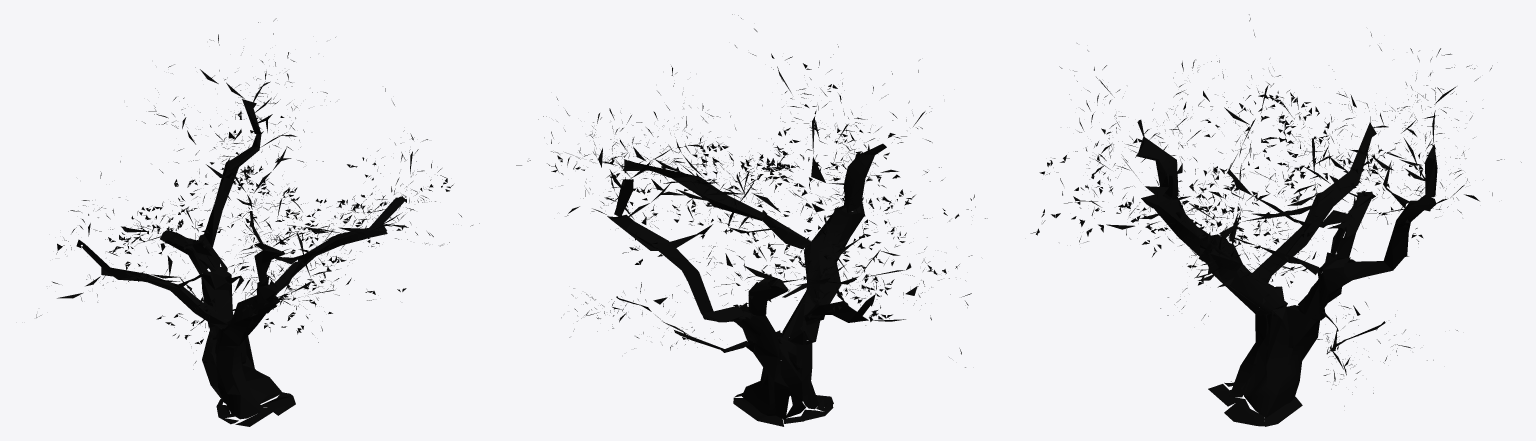
Rendered from Broad_Oak_B.glb.
3 renders of one model, left to right at view 1: azimuth 30°, elevation 25°; view 2: azimuth 150°, elevation 25°; view 3: azimuth 270°, elevation 25°, orthographic. The views are drawn at different scales.
Parts seen in each view (by area): view 1: tree; view 2: tree; view 3: tree.
Boxes of the visible parts, x1=… form: tree: x1=36, y1=18, x2=479, y2=426; tree: x1=516, y1=14, x2=987, y2=426; tree: x1=1030, y1=14, x2=1521, y2=426.
Size of the model in its own units: 5.44 by 4.2 by 4.67.
1 material, 1 textured.
